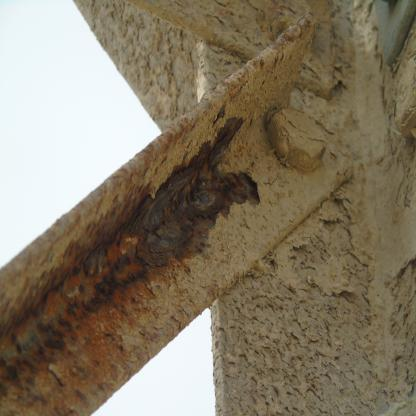rust: (82, 0, 415, 415), (0, 98, 268, 415)
